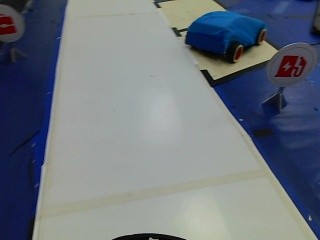battery: (269, 47, 311, 89)
car: (170, 6, 271, 62)
company: (0, 7, 27, 42)
